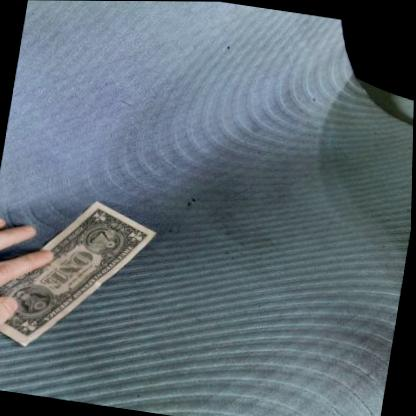one-back: (0, 200, 159, 349)
